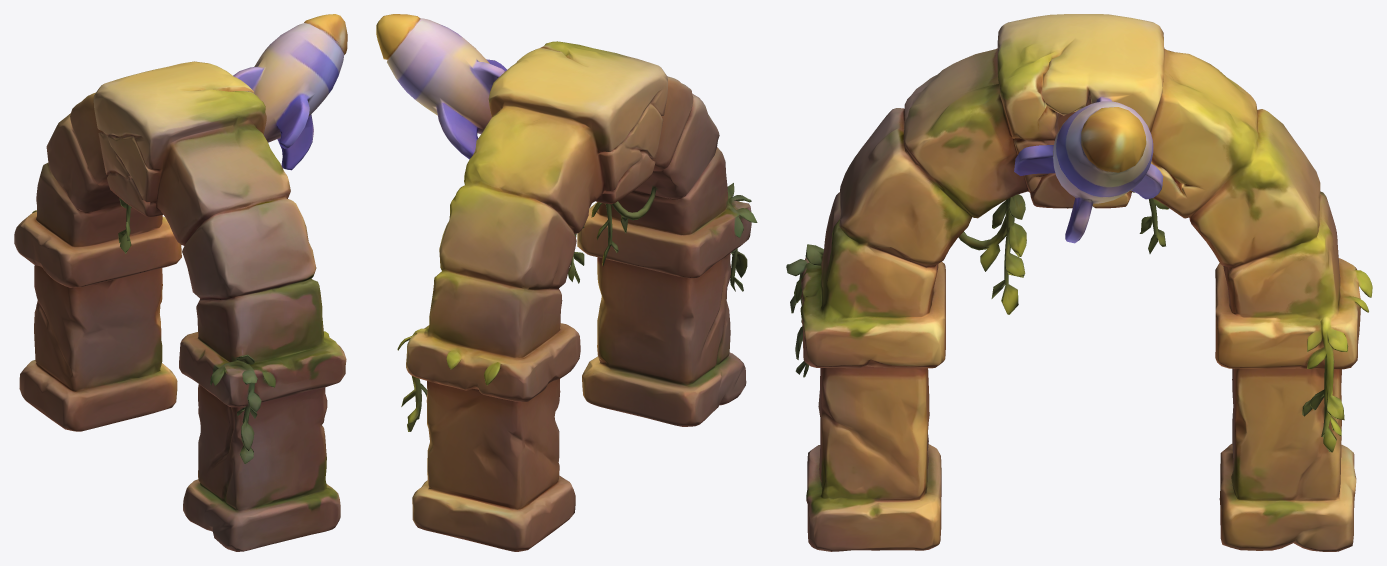
Rendered from arch.glb.
3 views of the same model, side by side, from view 1: azimuth 30°, elevation 25°; view 2: azimuth 150°, elevation 25°; view 3: azimuth 270°, elevation 25° (orthographic). The views are drawn at different scales.
Visible parts, largest first — view 1: tripo_node_f1a17054-9037-436c-9d02-5acd7199e4c1; view 2: tripo_node_f1a17054-9037-436c-9d02-5acd7199e4c1; view 3: tripo_node_f1a17054-9037-436c-9d02-5acd7199e4c1.
Part boxes in pixels (left/top/right/bottom): tripo_node_f1a17054-9037-436c-9d02-5acd7199e4c1: left=14, top=14, right=347, bottom=551; tripo_node_f1a17054-9037-436c-9d02-5acd7199e4c1: left=376, top=14, right=757, bottom=551; tripo_node_f1a17054-9037-436c-9d02-5acd7199e4c1: left=786, top=14, right=1372, bottom=551.
Bounding box in the file's own units: 0.6034 × 0.9287 × 0.9809.
Materials: 1 (1 with a texture image).
